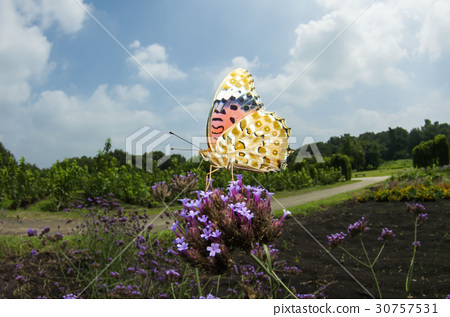Argyreus hyperbius: (164, 64, 295, 200)
butterfly: (166, 66, 297, 202)
